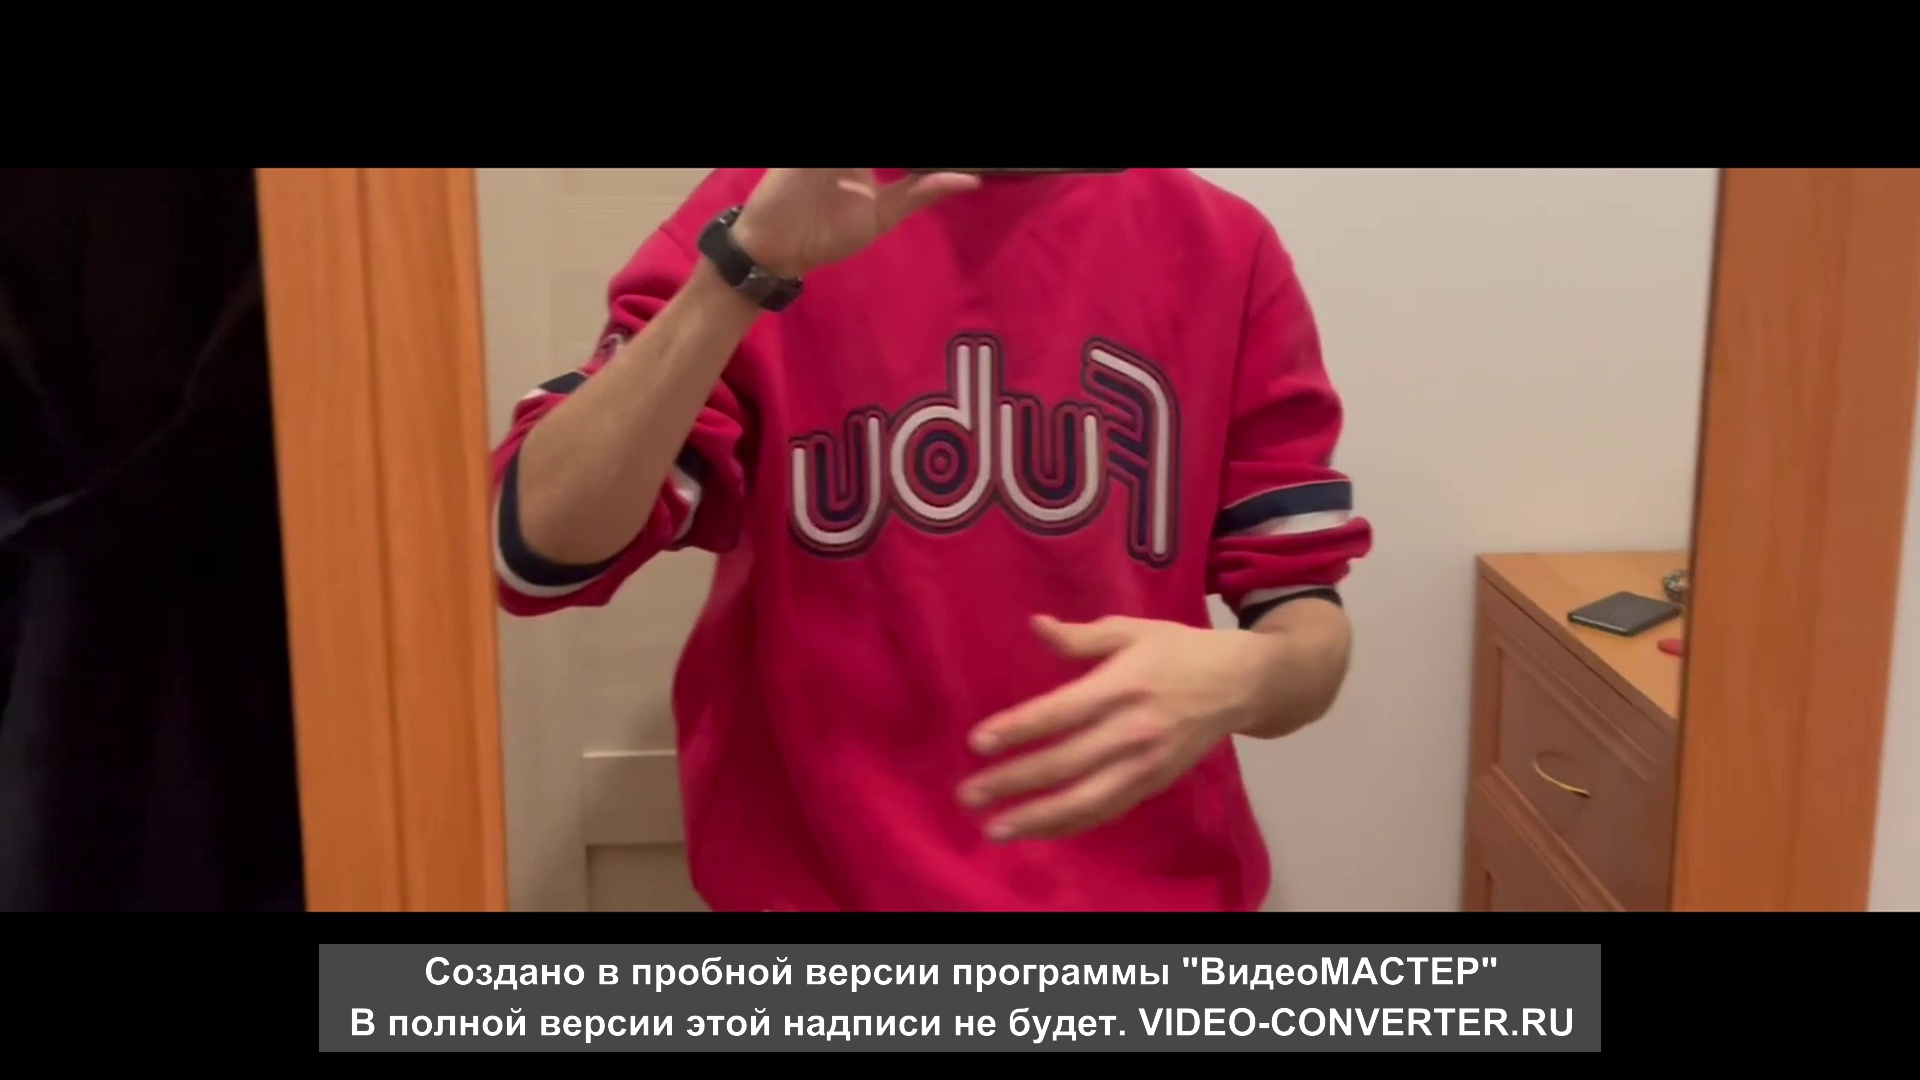Кисть: (955, 613, 1226, 844)
